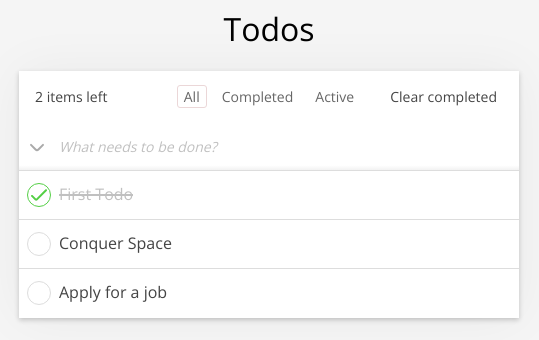
Test: App › показывает сообщение об отсутствии задач
The image size is (539, 340).
Click the button "completed". click: (258, 97)
box: left=215, top=85, right=300, bottom=108
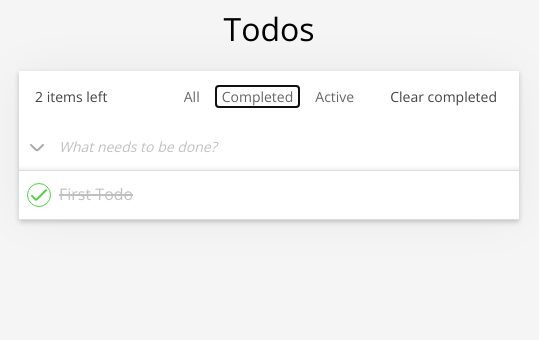
Click the button "Clear completed". click: (432, 97)
box: left=361, top=86, right=503, bottom=107
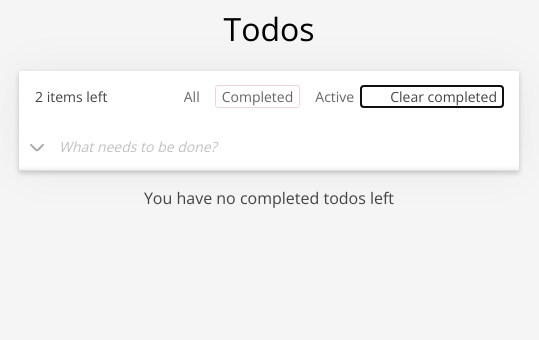
Result: the text "You have no completed todos left" is shown at left=144, top=187, right=394, bottom=209
